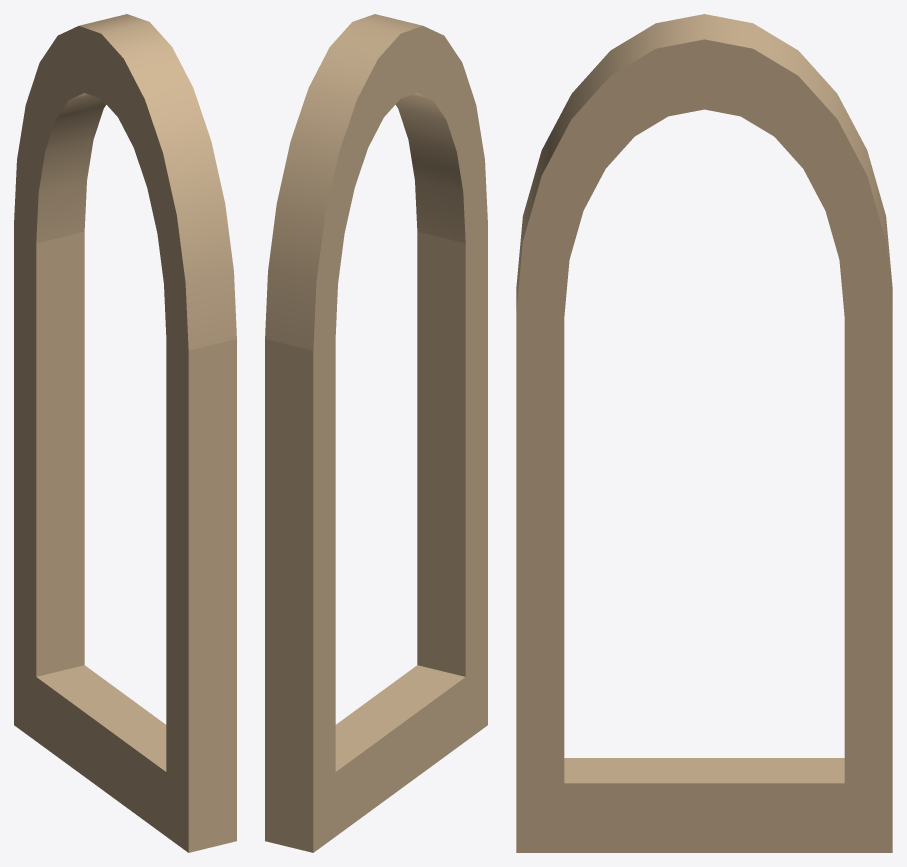
Rendered from Building Frame 15.fbx.
The picture shows the model from 3 angles, left to right: view 1: azimuth 30°, elevation 25°; view 2: azimuth 150°, elevation 25°; view 3: azimuth 270°, elevation 25°; orthographic projection. The views are drawn at different scales.
Parts seen in each view (by area): view 1: Building Frame 15; view 2: Building Frame 15; view 3: Building Frame 15.
Part boxes in pixels (x1,y1,x2,y2): Building Frame 15: (14,14,236,852); Building Frame 15: (265,14,487,852); Building Frame 15: (516,14,892,852).
Size of the model in its own units: 0.05 by 0.746 by 0.3125.
